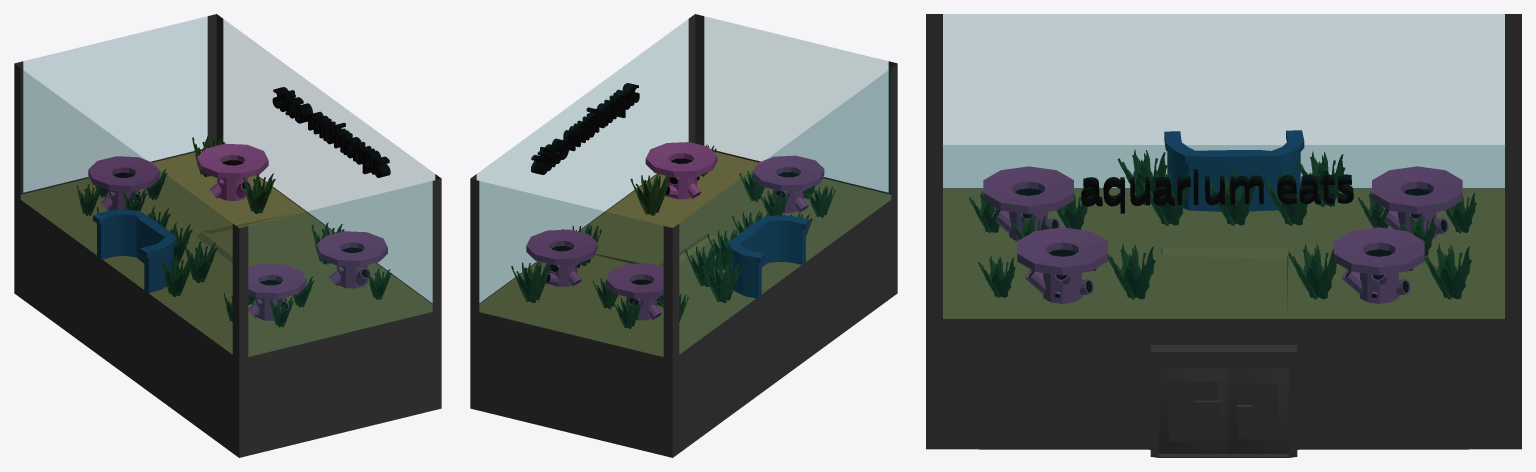
The model's file is Aquarium_eats.dae.
3 views of the same model, side by side, from view 1: azimuth 30°, elevation 25°; view 2: azimuth 150°, elevation 25°; view 3: azimuth 270°, elevation 25° (orthographic). The views are drawn at different scales.
Parts seen in each view (by area): view 1: pCube34; view 2: pCube34; view 3: pCube34.
Boxes of the visible parts, box(x1,y1,x2,y2) form: pCube34: box(14, 14, 441, 457); pCube34: box(470, 14, 897, 457); pCube34: box(926, 14, 1521, 457).
Bounding box in the file's own units: 15.8 × 15.74 × 27.78.
